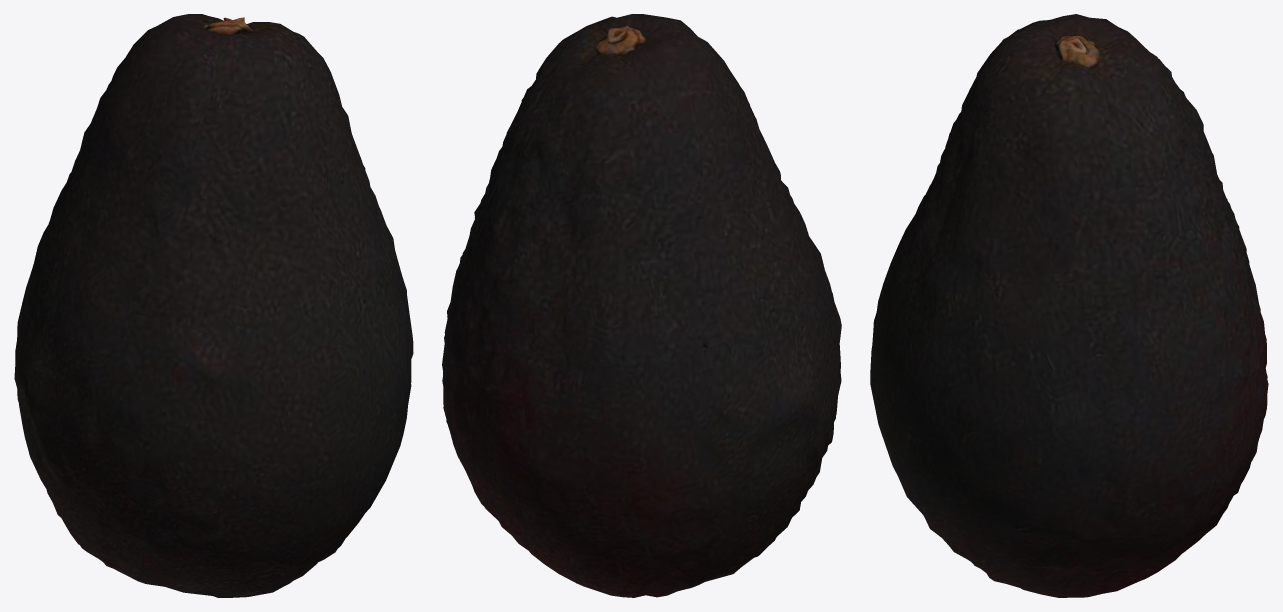
Rendered from food_avocado_01.glb.
3 renders of one model, left to right at view 1: azimuth 30°, elevation 25°; view 2: azimuth 150°, elevation 25°; view 3: azimuth 270°, elevation 25°, orthographic. The views are drawn at different scales.
Visible parts, largest first — view 1: food_avocado_01; view 2: food_avocado_01; view 3: food_avocado_01.
Boxes of the visible parts, x1=… form: food_avocado_01: x1=14, y1=14, x2=413, y2=597; food_avocado_01: x1=442, y1=14, x2=841, y2=597; food_avocado_01: x1=870, y1=14, x2=1268, y2=597.
Size of the model in its own units: 0.0952 by 0.1432 by 0.0946.
Materials: 1 (1 with a texture image).
